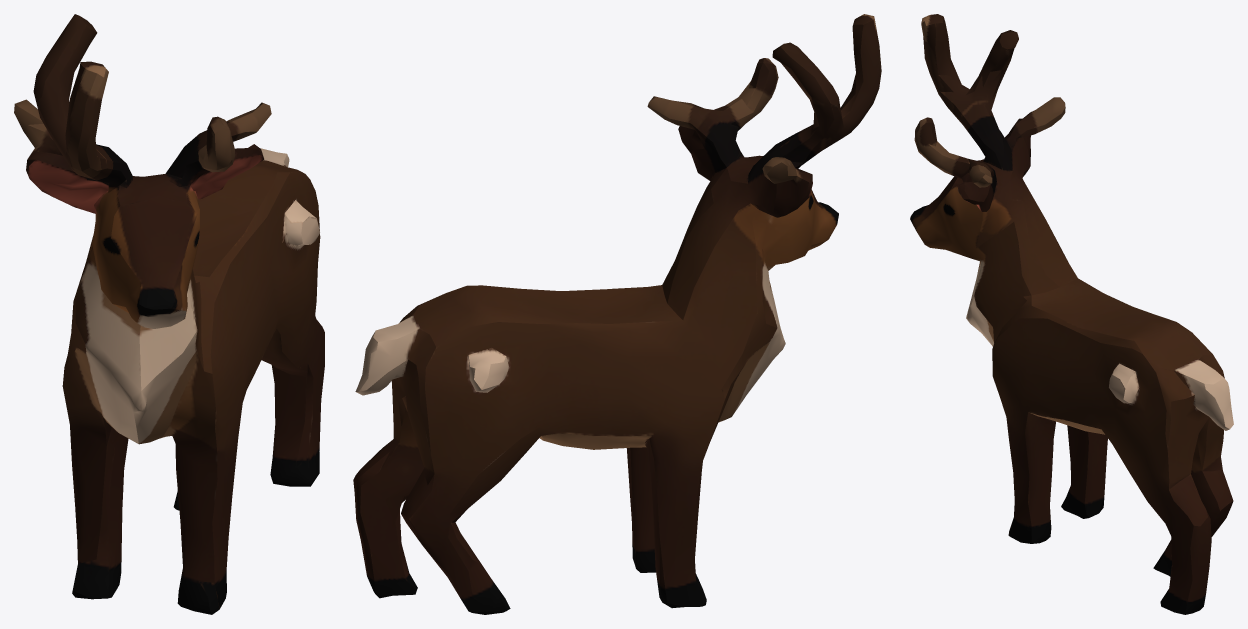
The model's file is stag-moonlit-painting.glb.
3 renders of one model, left to right at view 1: azimuth 30°, elevation 25°; view 2: azimuth 150°, elevation 25°; view 3: azimuth 270°, elevation 25°, orthographic. The views are drawn at different scales.
Parts seen in each view (by area): view 1: geometry_0; view 2: geometry_0; view 3: geometry_0.
Part boxes in pixels (bbox=[...]): geometry_0: bbox=[14, 14, 324, 614]; geometry_0: bbox=[353, 14, 881, 614]; geometry_0: bbox=[910, 14, 1233, 614].
Bounding box in the file's own units: 0.7123 × 1 × 0.6383.
1 material, 1 textured.
